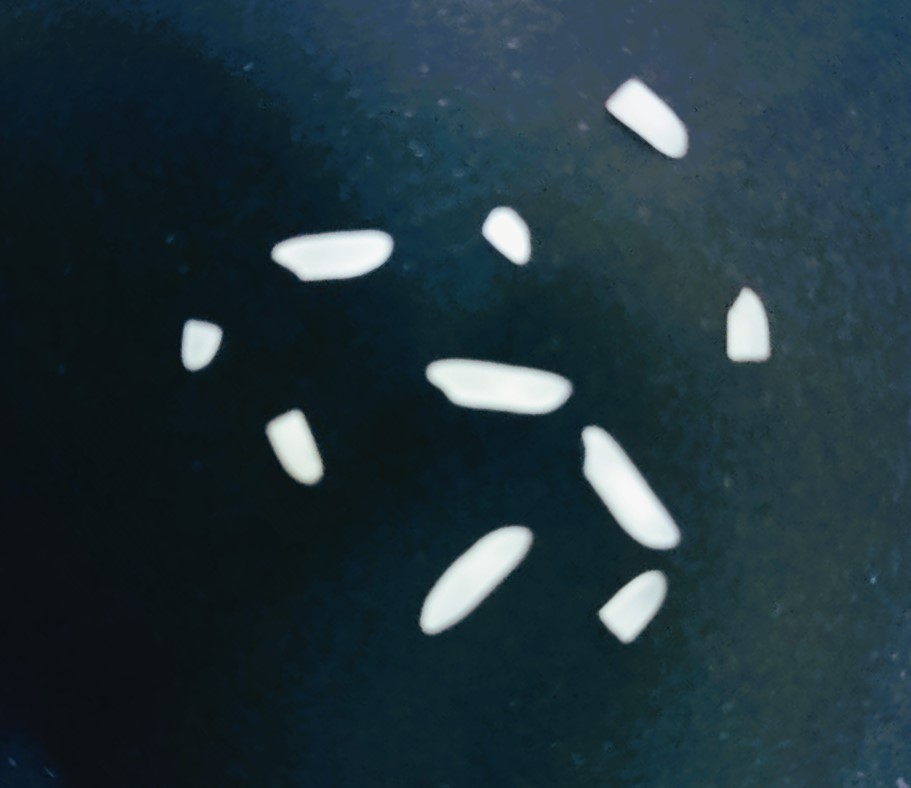broken_grain: (602, 72, 697, 170), (590, 563, 676, 642), (262, 401, 326, 492), (716, 281, 779, 373), (479, 206, 537, 269), (178, 306, 225, 375)
complete_grain: (407, 520, 543, 646), (573, 427, 686, 554), (422, 354, 578, 424), (266, 221, 397, 289)
